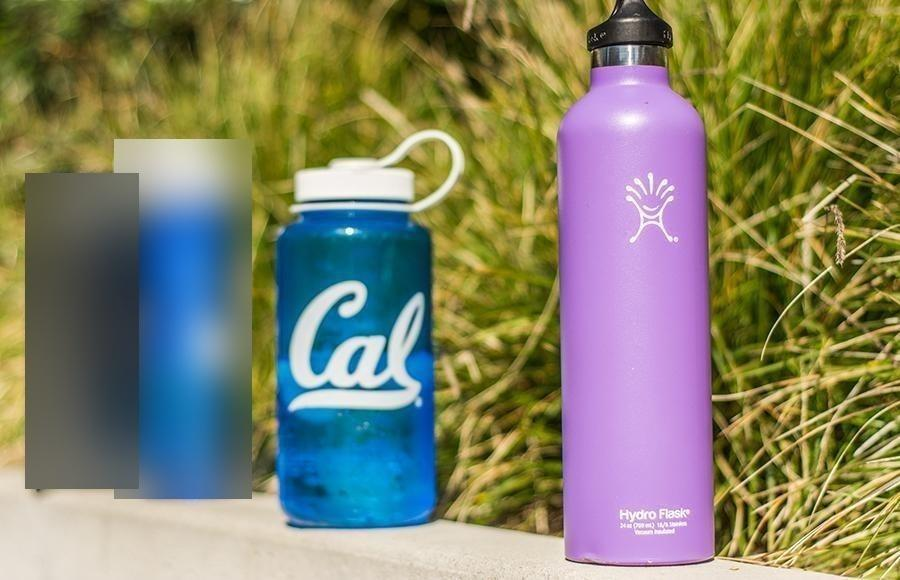gym bottle: (555, 1, 717, 571), (272, 127, 463, 534)
